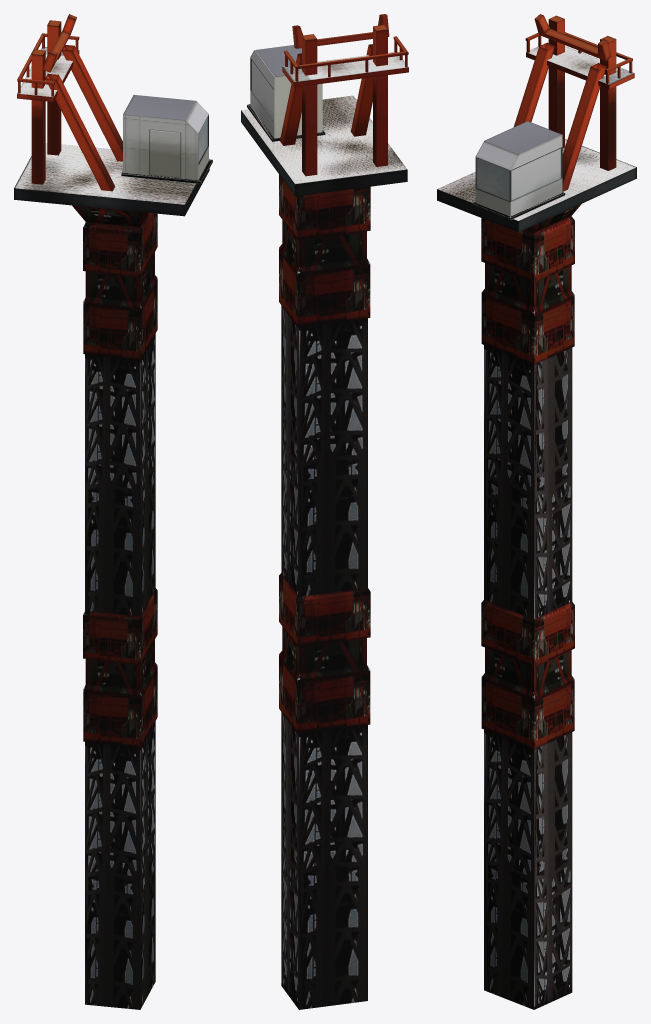
The model's file is kure-ndodai2f3.obj.
The picture shows the model from 3 angles, left to right: view 1: azimuth 30°, elevation 25°; view 2: azimuth 150°, elevation 25°; view 3: azimuth 270°, elevation 25°; orthographic projection. The views are drawn at different scales.
Size of the model in its own units: 12.6 by 64.72 by 12.39.
1 material, 1 textured.
